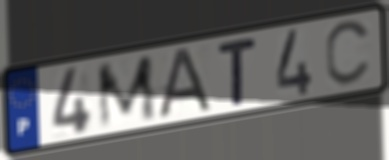4: (49, 63, 94, 138), (275, 26, 314, 98)
A: (153, 45, 216, 122)
C: (323, 17, 375, 90)
M: (94, 51, 160, 133)
T: (215, 34, 260, 108)
